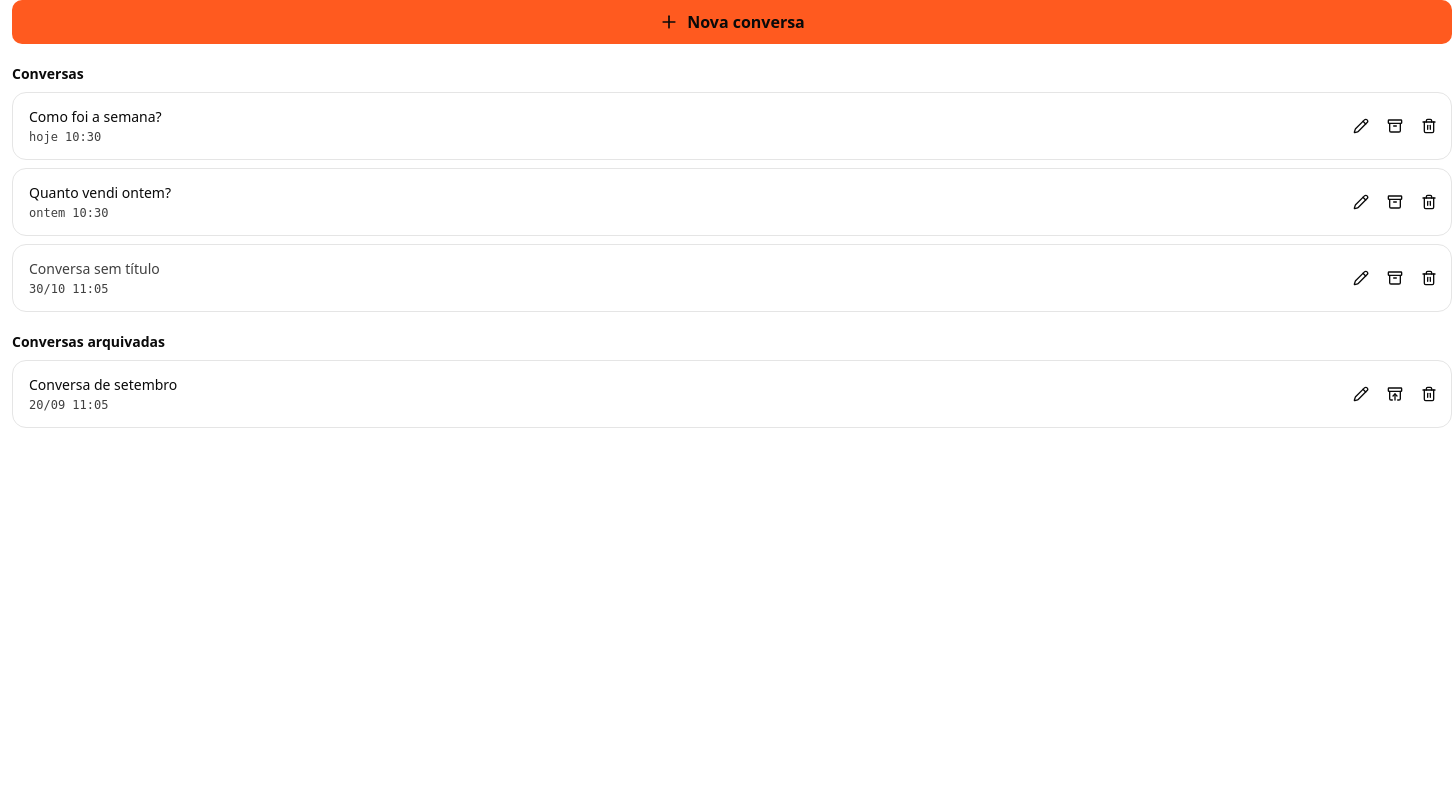
lista de conversas do mentor: excluir › quando a ação recusa, a conversa fica na vista com a frase
The image size is (1452, 810).
Click the button named "Excluir a conversa \"Quanto vendi ontem?\"": (1429, 202) [1413, 186, 1445, 218]
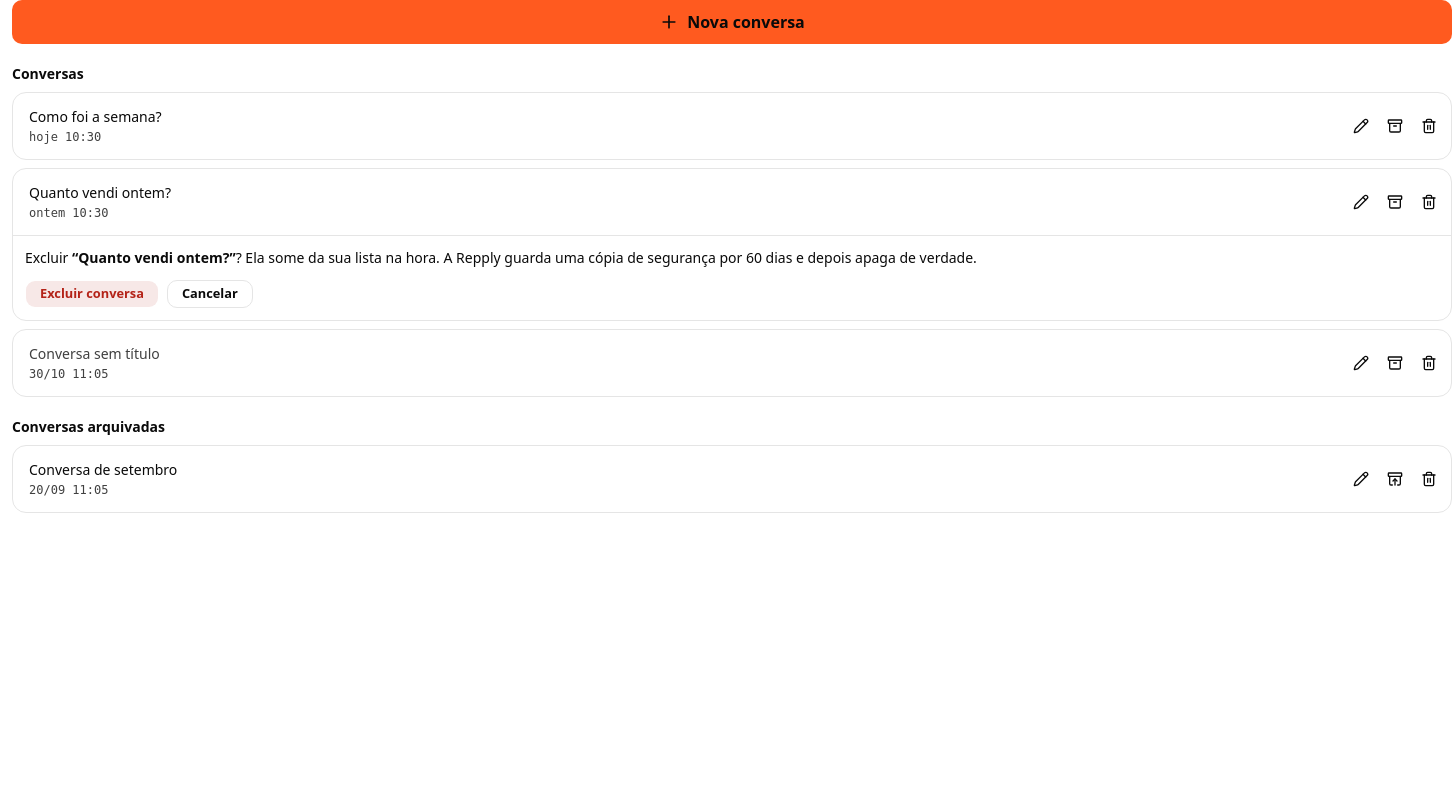
Click the button "Excluir conversa": (92, 294) [25, 280, 159, 308]
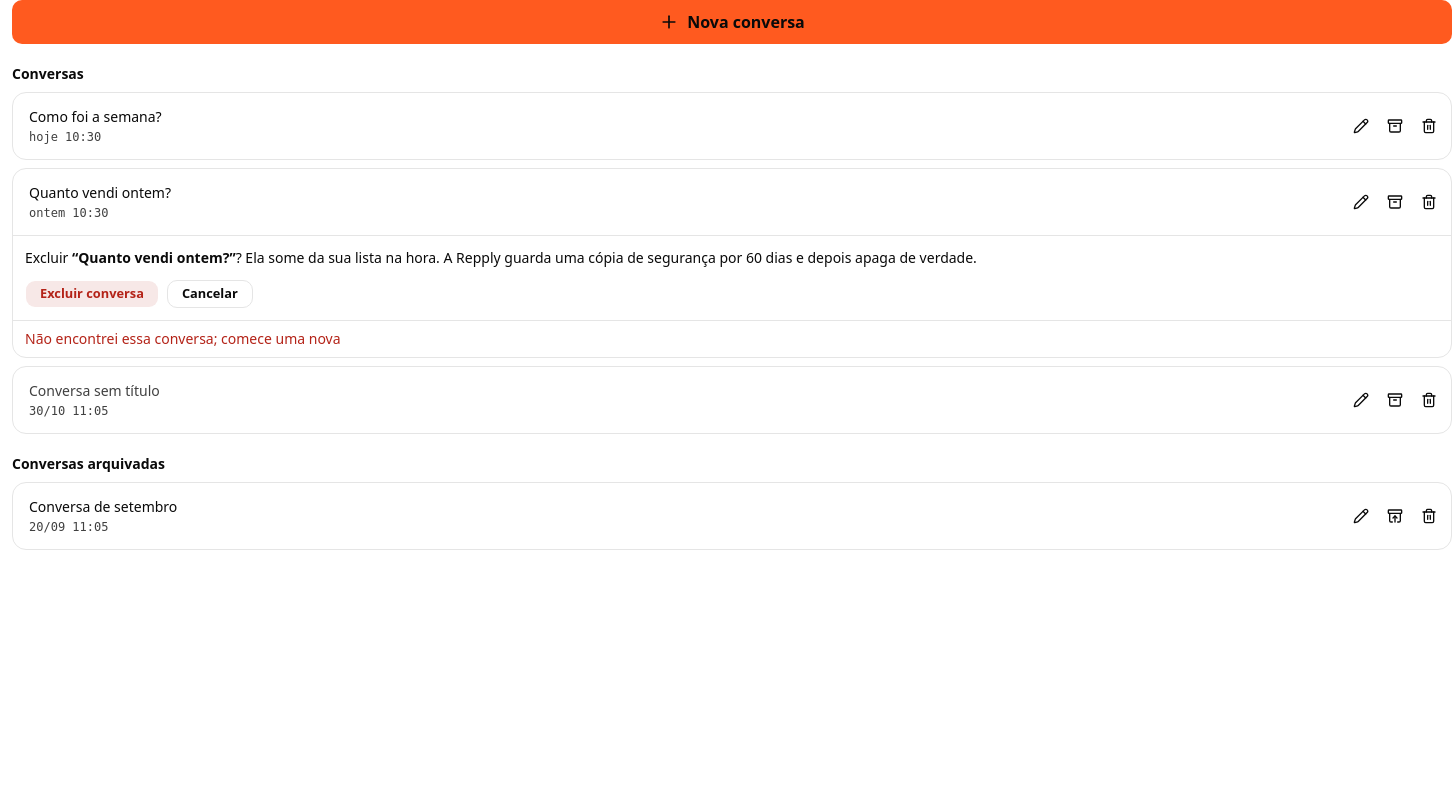
expect the link "Quanto vendi ontem? ontem 10:30" is shown: met, box [29, 183, 171, 220]
expect the message "não encontrei essa conversa; comece uma nova" is shown: met, box [13, 320, 1451, 357]
